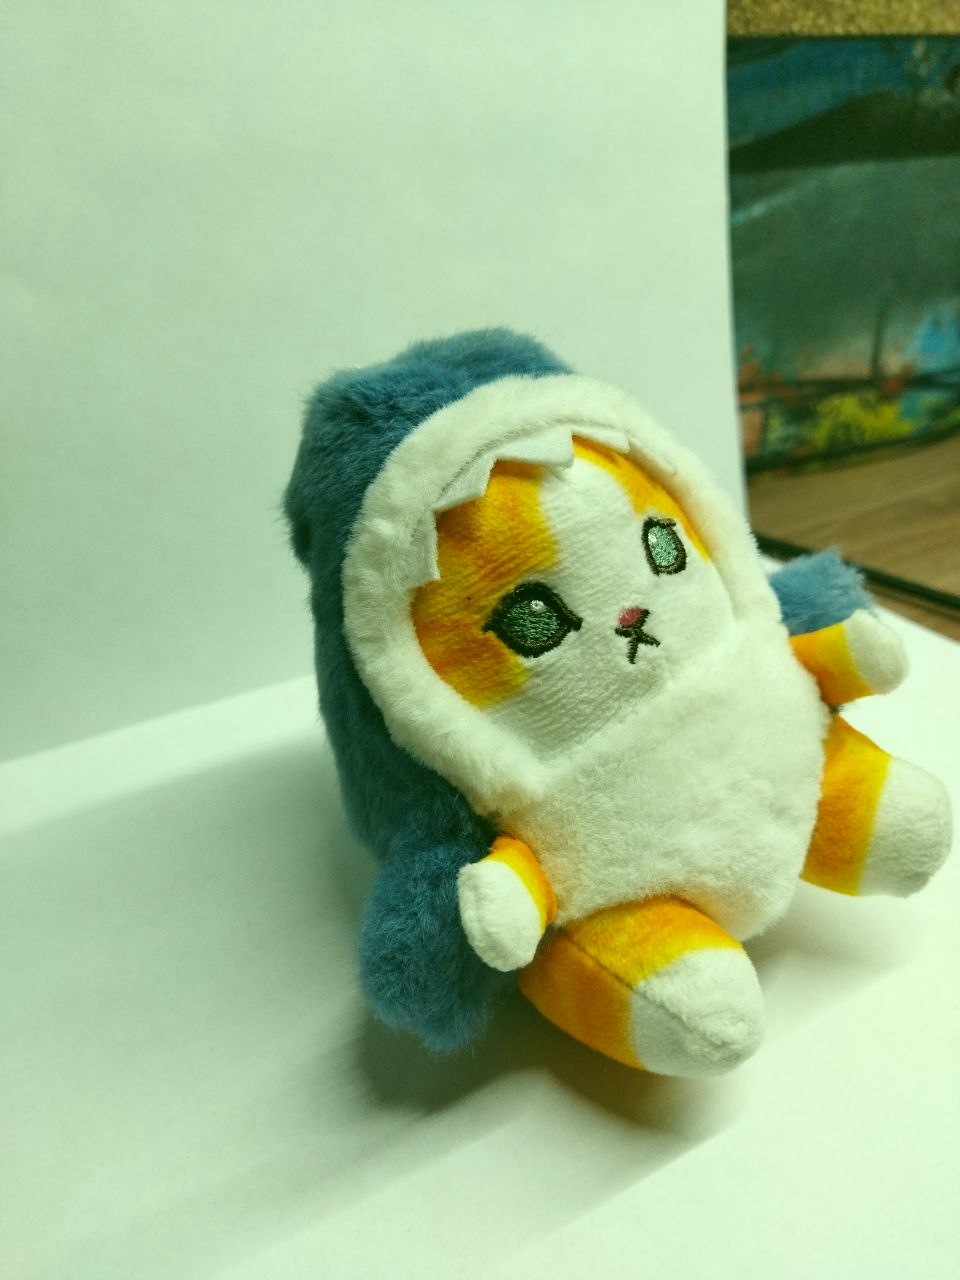Snark Cat: (285, 325, 957, 1079)
